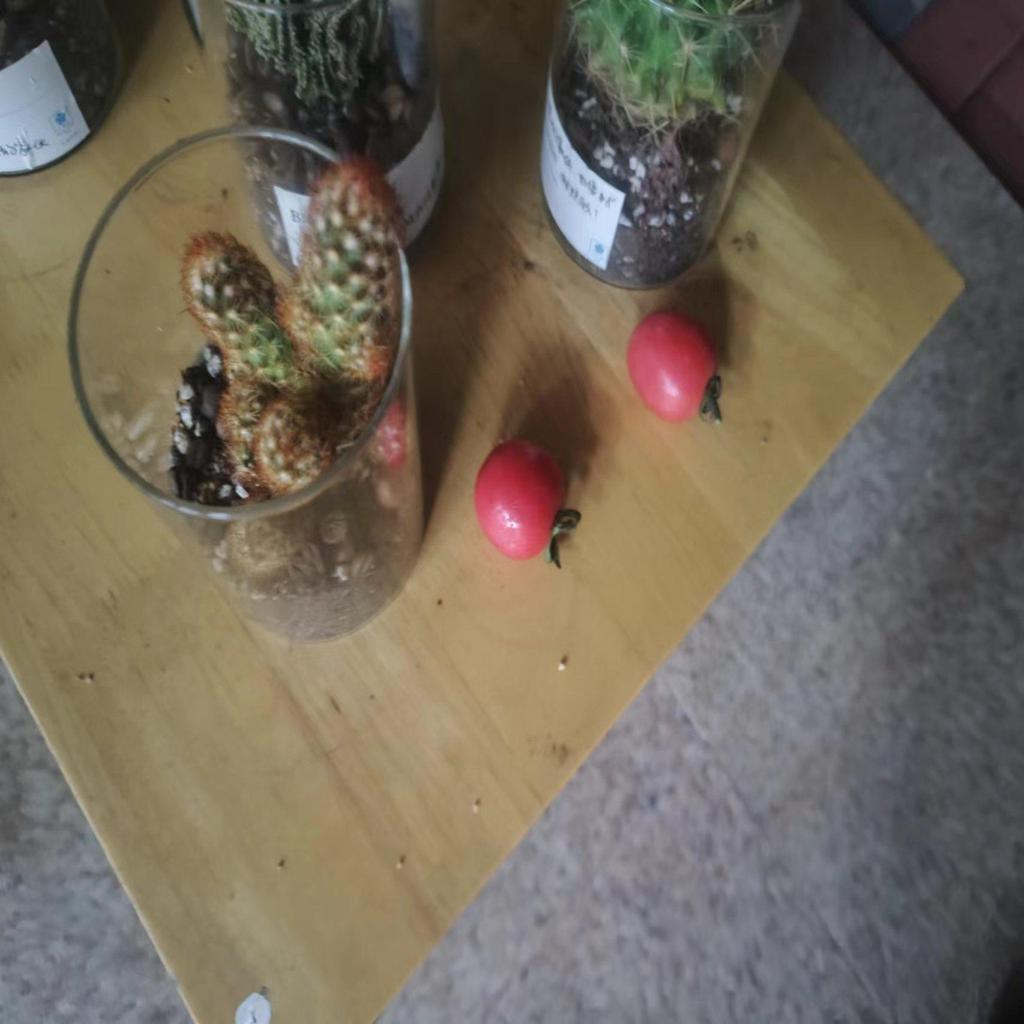tomato: (474, 439, 569, 568), (618, 307, 723, 420)
